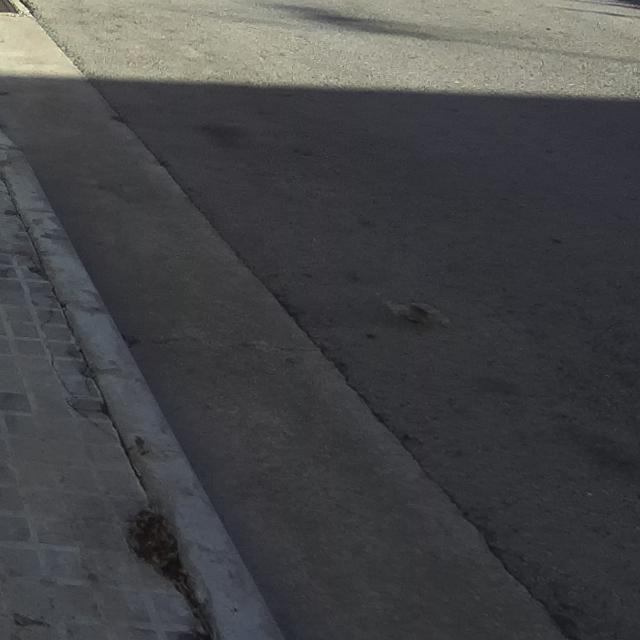calcada_quebrada: (39, 344, 75, 405), (68, 406, 118, 445), (37, 293, 58, 341)
